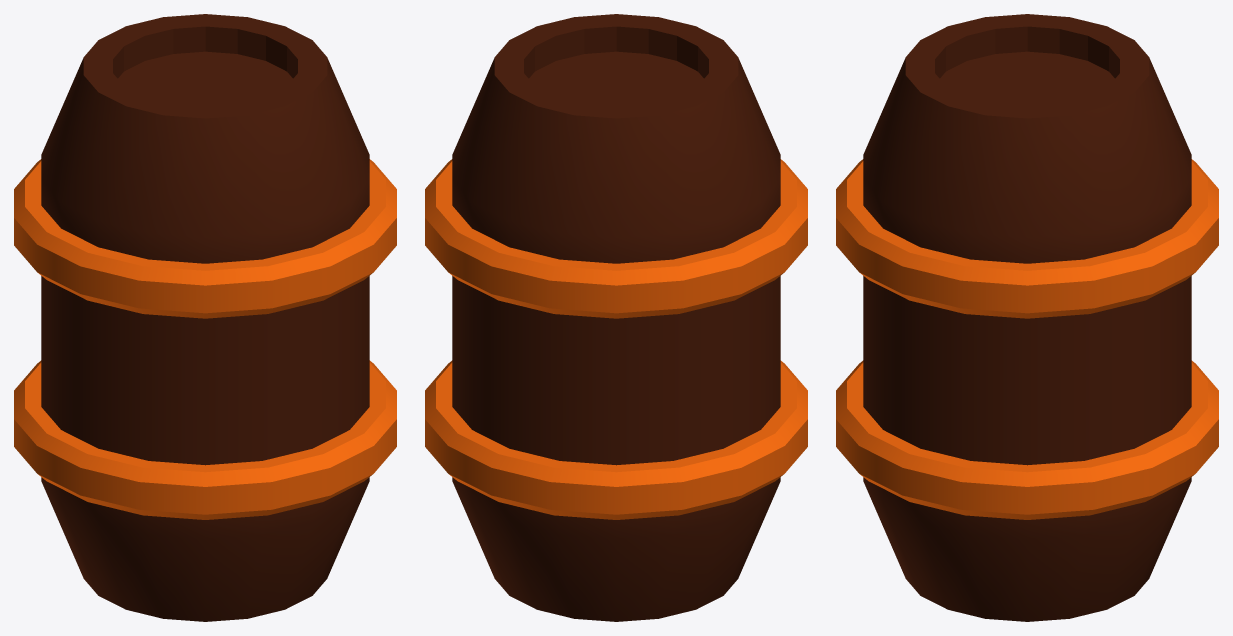
The model's file is Barrel 001.FBX.
The picture shows the model from 3 angles, left to right: view 1: azimuth 30°, elevation 25°; view 2: azimuth 150°, elevation 25°; view 3: azimuth 270°, elevation 25°; orthographic projection.
Visible parts, largest first — view 1: Barrel; view 2: Barrel; view 3: Barrel.
Part boxes in pixels (bbox=[...]): Barrel: bbox=[14, 14, 396, 621]; Barrel: bbox=[425, 14, 807, 621]; Barrel: bbox=[836, 14, 1218, 621].
Bounding box in the file's own units: 0.7 × 1 × 0.6894.
